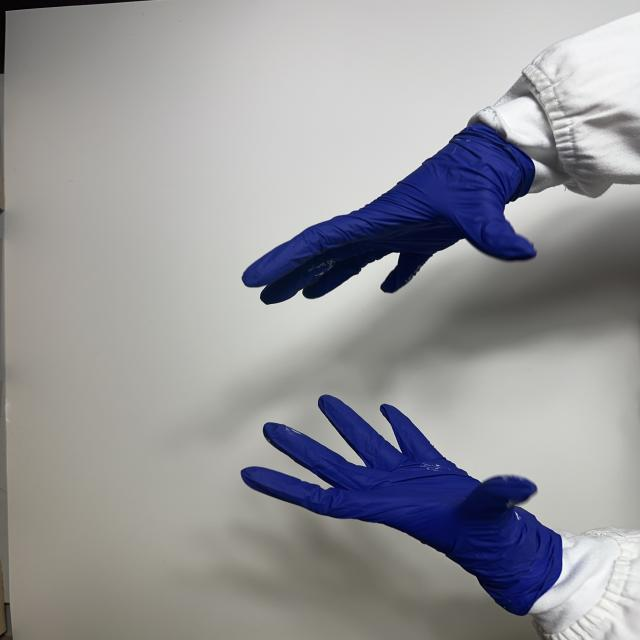gloves_contaminated: (241, 396, 561, 614), (243, 124, 535, 304)
